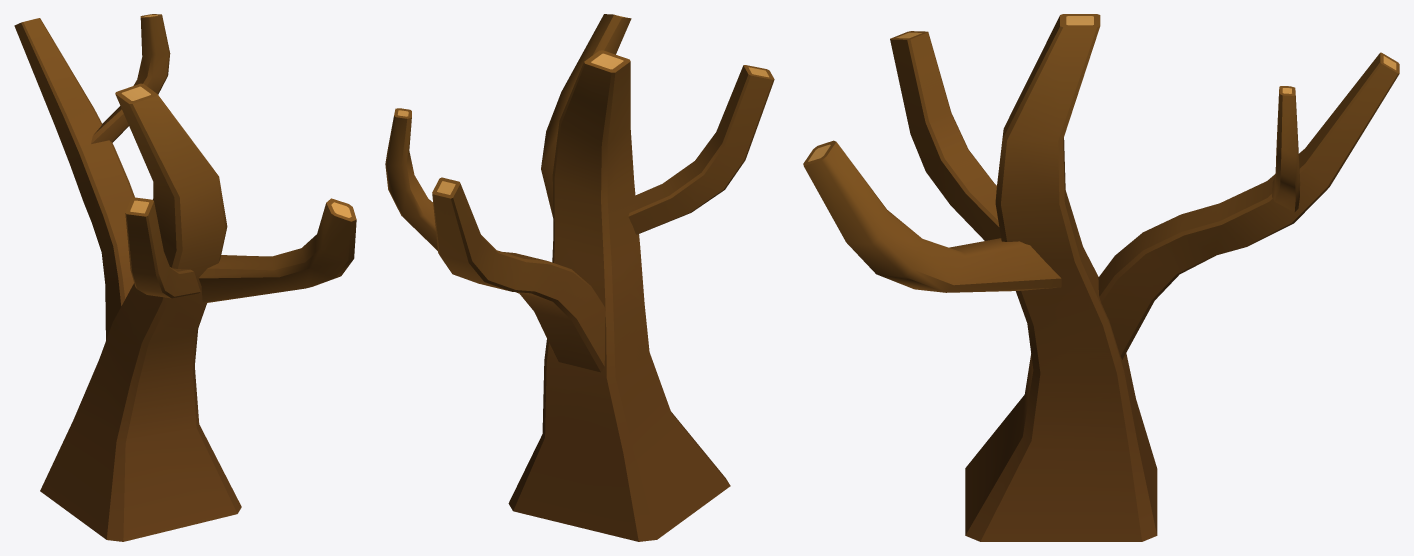
File: Tree_4_2.glb
3 views of the same model, side by side, from view 1: azimuth 30°, elevation 25°; view 2: azimuth 150°, elevation 25°; view 3: azimuth 270°, elevation 25° (orthographic). The views are drawn at different scales.
Parts seen in each view (by area): view 1: Tree_4_2; view 2: Tree_4_2; view 3: Tree_4_2.
Boxes of the visible parts, <box> form: Tree_4_2: <box>14,14,356,541</box>; Tree_4_2: <box>385,14,774,541</box>; Tree_4_2: <box>803,14,1399,541</box>.
Bounding box in the file's own units: 1.53 × 2.81 × 3.13.
1 material, 1 textured.
